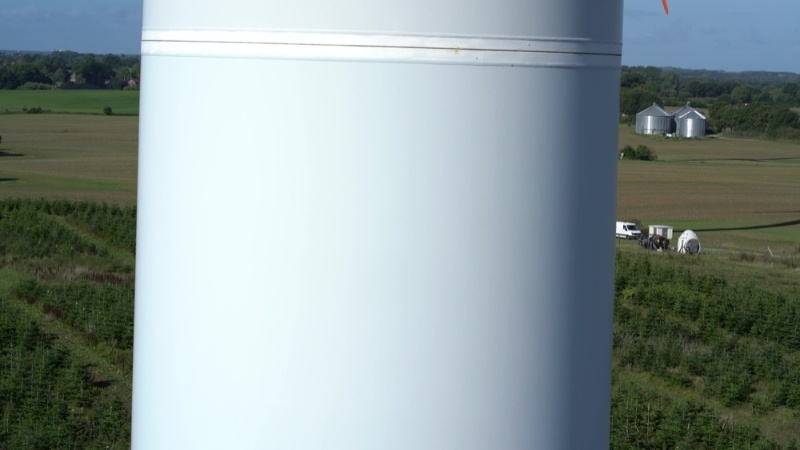weldseam: (139, 48, 623, 75), (140, 23, 623, 47)
